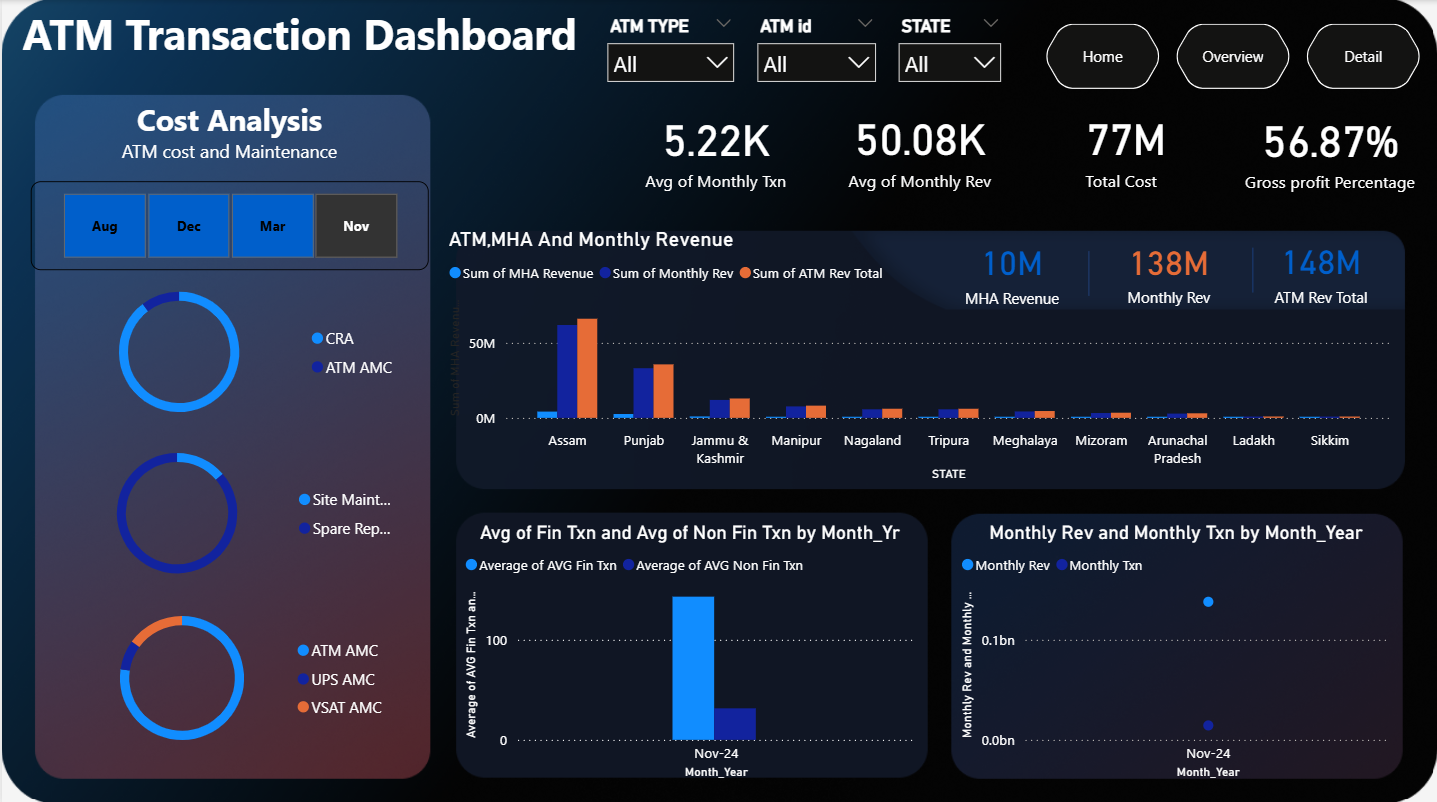

The dashboard page shown, as its layout file describes it:
{"tool":"powerbi","page":{"name":"Overview","canvas":[1280,720],"ordinal":1},"visuals":[{"type":"donutChart","fields":{"Y":["Sum(Dataset.CRA)","Sum(Dataset.ATM AMC)"]},"box":[35.7,241.5,326.6,144.1],"z":0},{"type":"donutChart","fields":{"Y":["Sum(Dataset.Site Maint (Non Asset))","Sum(Dataset.Spare Rep.(UPS))"]},"box":[43.9,385.6,318.4,144.1],"z":1000},{"type":"donutChart","fields":{"Y":["Sum(Dataset.ATM AMC)","Sum(Dataset.UPS AMC)","Sum(Dataset.VSAT AMC)"]},"box":[53.5,529.7,299.1,148.2],"z":2000},{"type":"clusteredColumnChart","title":"ATM,MHA And Monthly Revenue","fields":{"Y":["Sum(Dataset.MHA Revenue)","Sum(Dataset.Monthly Rev)","Sum(Dataset.ATM Rev Total)"],"Category":["Dataset.STATE"]},"box":[392.5,203.1,849.4,230.5],"z":3000},{"type":"clusteredColumnChart","title":"Avg of  Fin Txn and Avg of  Non Fin Txn by Month_Yr","fields":{"Y":["Avg(Dataset.AVG Fin Txn)","Avg(Dataset.AVG Non Fin Txn)"],"Category":["Dataset.Month_Year"]},"box":[407.5,463.8,410.3,234.6],"z":4000},{"type":"areaChart","fields":{"Category":["Dataset.Month_Year"],"Y":["Sum(Dataset.Monthly Rev)","Sum(Dataset.Monthly Txn)"]},"box":[849.4,463.8,392.5,234.6],"z":5000},{"type":"slicer","fields":{"Values":["Dataset.Short_Month"]},"box":[26.1,161.9,354,79.6],"z":6000},{"type":"textbox","box":[26.1,83.7,354,78.2],"z":7000},{"type":"card","fields":{"Values":["Avg(Dataset.Monthly Txn)"]},"box":[420.1,79.7,177.9,93.5],"z":8000},{"type":"card","fields":{"Values":["Avg(Dataset.Monthly Rev)"]},"box":[639.5,83.7,185.2,85.1],"z":9000},{"type":"card","fields":{"Values":["Sum(Dataset. Total Cost  )"]},"box":[864.5,83.7,181.1,94.7],"z":10000},{"type":"card","fields":{"Values":["Dataset.Gross profit Percentage"]},"box":[1063.5,83.7,192.1,94.7],"z":11000},{"type":"card","fields":{"Values":["Sum(Dataset.MHA Revenue)"]},"box":[824.7,199,149.6,83.7],"z":12000},{"type":"card","fields":{"Values":["Sum(Dataset.Monthly Rev)"]},"box":[970.2,200.3,137.2,81],"z":13000},{"type":"card","fields":{"Values":["Sum(Dataset.ATM Rev Total)"]},"box":[1107.4,201.7,134.5,78.2],"z":14000},{"type":"pageNavigator","box":[927.7,21.5,338.9,58.3],"z":15000},{"type":"textbox","box":[13.8,0,506,65.9],"z":16000},{"type":"slicer","fields":{"Values":["Dataset.ATM TYPE"]},"box":[529,9.2,133.4,67.5],"z":16001},{"type":"slicer","fields":{"Values":["Dataset.ATM id"]},"box":[662.4,9.2,125.7,75.1],"z":16002},{"type":"slicer","fields":{"Values":["Dataset.STATE"]},"box":[788.1,9.2,111.9,70.5],"z":16003},{"type":"bookmarkNavigator","box":[0,0,600,50],"z":16004}]}

Visuals, with their boxes in screenshot pixels (x1, y1, x2, y2), scaled from the page's 1280x720 canvas onto the 1437x802 screenshot:
donutChart - Sum(Dataset.CRA) x Sum(Dataset.ATM AMC): {"left": 40, "top": 269, "right": 407, "bottom": 430}
donutChart - Sum(Dataset.Site Maint (Non Asset)) x Sum(Dataset.Spare Rep.(UPS)): {"left": 49, "top": 430, "right": 407, "bottom": 590}
donutChart - Sum(Dataset.ATM AMC) x Sum(Dataset.UPS AMC): {"left": 60, "top": 590, "right": 396, "bottom": 755}
"ATM,MHA And Monthly Revenue" clusteredColumnChart: {"left": 441, "top": 226, "right": 1394, "bottom": 483}
"Avg of  Fin Txn and Avg of  Non Fin Txn by Month_Yr" clusteredColumnChart: {"left": 457, "top": 517, "right": 918, "bottom": 778}
areaChart - Dataset.Month_Year x Sum(Dataset.Monthly Rev): {"left": 954, "top": 517, "right": 1394, "bottom": 778}
slicer - Dataset.Short_Month: {"left": 29, "top": 180, "right": 427, "bottom": 269}
textbox: {"left": 29, "top": 93, "right": 427, "bottom": 180}
card - Avg(Dataset.Monthly Txn): {"left": 472, "top": 89, "right": 671, "bottom": 193}
card - Avg(Dataset.Monthly Rev): {"left": 718, "top": 93, "right": 926, "bottom": 188}
card - Sum(Dataset. Total Cost  ): {"left": 971, "top": 93, "right": 1174, "bottom": 199}
card - Dataset.Gross profit Percentage: {"left": 1194, "top": 93, "right": 1410, "bottom": 199}
card - Sum(Dataset.MHA Revenue): {"left": 926, "top": 222, "right": 1094, "bottom": 315}
card - Sum(Dataset.Monthly Rev): {"left": 1089, "top": 223, "right": 1243, "bottom": 313}
card - Sum(Dataset.ATM Rev Total): {"left": 1243, "top": 225, "right": 1394, "bottom": 312}
pageNavigator: {"left": 1041, "top": 24, "right": 1422, "bottom": 89}
textbox: {"left": 15, "top": 0, "right": 584, "bottom": 73}
slicer - Dataset.ATM TYPE: {"left": 594, "top": 10, "right": 744, "bottom": 85}
slicer - Dataset.ATM id: {"left": 744, "top": 10, "right": 885, "bottom": 94}
slicer - Dataset.STATE: {"left": 885, "top": 10, "right": 1010, "bottom": 89}
bookmarkNavigator: {"left": 0, "top": 0, "right": 674, "bottom": 56}
